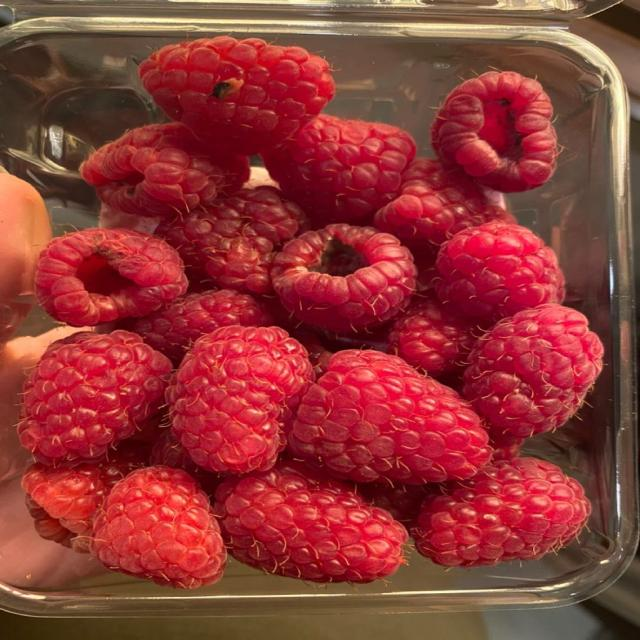raspberry: (288, 350, 491, 484), (215, 462, 407, 582), (140, 36, 334, 154), (167, 326, 313, 472), (18, 331, 171, 465), (413, 458, 591, 566), (464, 305, 603, 440), (263, 115, 415, 227), (91, 466, 226, 588), (80, 123, 249, 217), (156, 187, 304, 293), (272, 224, 416, 331), (432, 72, 557, 192), (36, 229, 187, 326), (374, 158, 515, 260), (22, 443, 148, 550), (435, 222, 564, 323), (122, 290, 273, 365), (388, 294, 478, 377), (294, 325, 388, 378), (150, 428, 219, 495), (26, 494, 86, 552), (357, 483, 425, 527), (150, 428, 201, 477), (293, 327, 333, 378), (99, 203, 161, 234), (413, 250, 438, 294), (492, 439, 523, 462)
